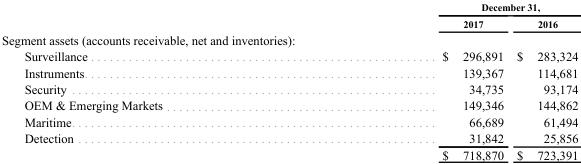table: (0, 1, 577, 161)
table column: (0, 1, 301, 161), (301, 1, 509, 161), (509, 1, 577, 161)
table column header: (0, 1, 577, 30)
table projected row header: (0, 30, 577, 47)
table row: (0, 30, 577, 47), (0, 47, 577, 64), (0, 96, 577, 113), (0, 129, 577, 146), (0, 14, 577, 30), (0, 64, 577, 80), (0, 80, 577, 96), (0, 113, 577, 129), (0, 146, 577, 161), (0, 1, 577, 14)
table spanning cell: (301, 1, 577, 14)
